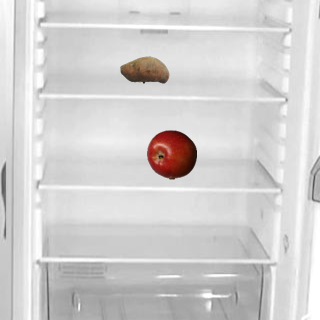Apple Braeburn: (146, 129, 196, 179)
Potato Sweet: (119, 44, 169, 94)
